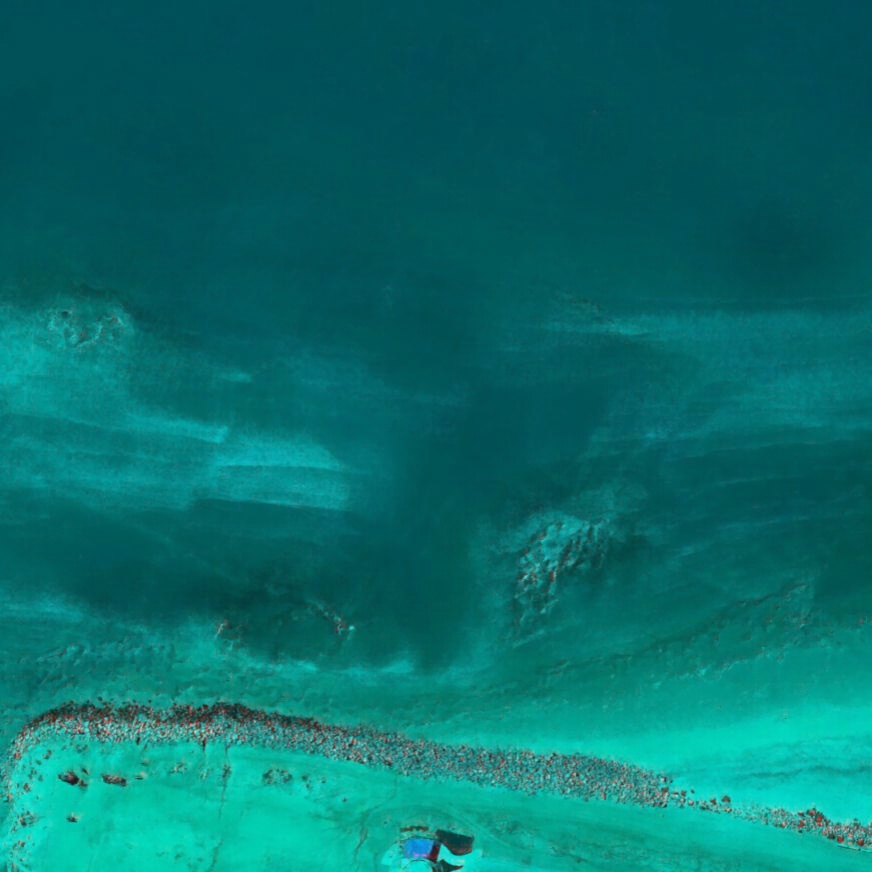rip_current: (254, 234, 612, 666)
